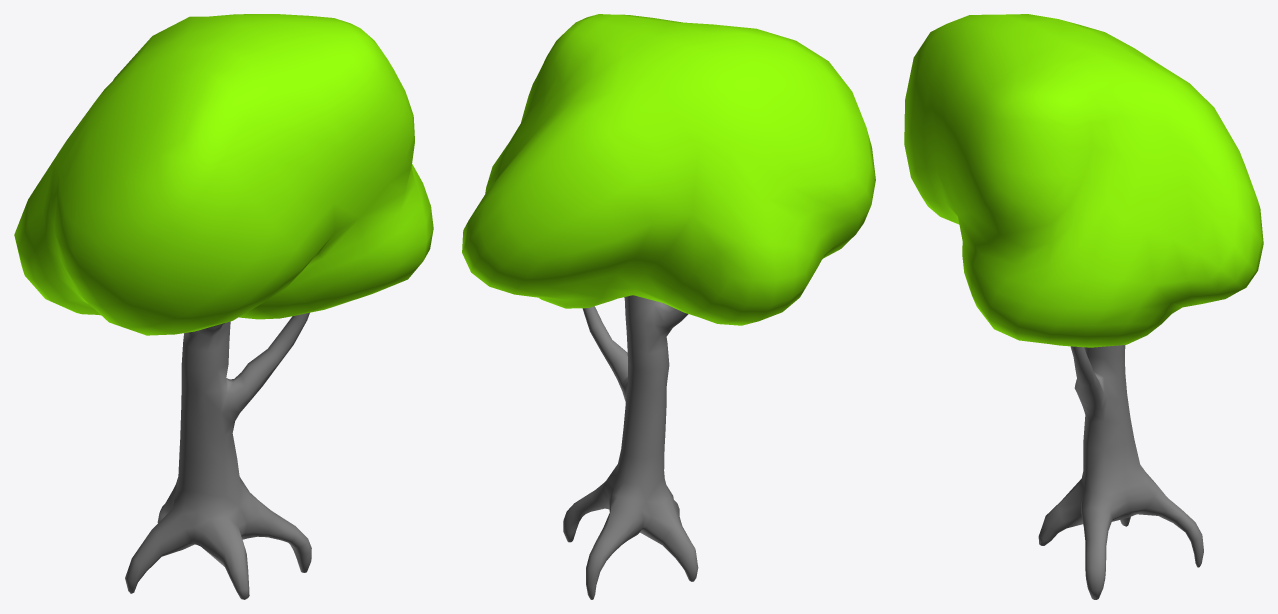
The model's file is Tree.fbx.
3 views of the same model, side by side, from view 1: azimuth 30°, elevation 25°; view 2: azimuth 150°, elevation 25°; view 3: azimuth 270°, elevation 25° (orthographic). The views are drawn at different scales.
Visible parts, largest first — view 1: Box002, Box001; view 2: Box002, Box001; view 3: Box002, Box001.
Boxes of the visible parts, x1,y1,x2,y2 form: Box002: (14,14,433,335); Box001: (125,312,311,599); Box002: (462,14,875,325); Box001: (563,295,698,599); Box002: (904,14,1263,347); Box001: (1038,345,1203,599).
Size of the model in its own units: 248 by 360 by 222.
